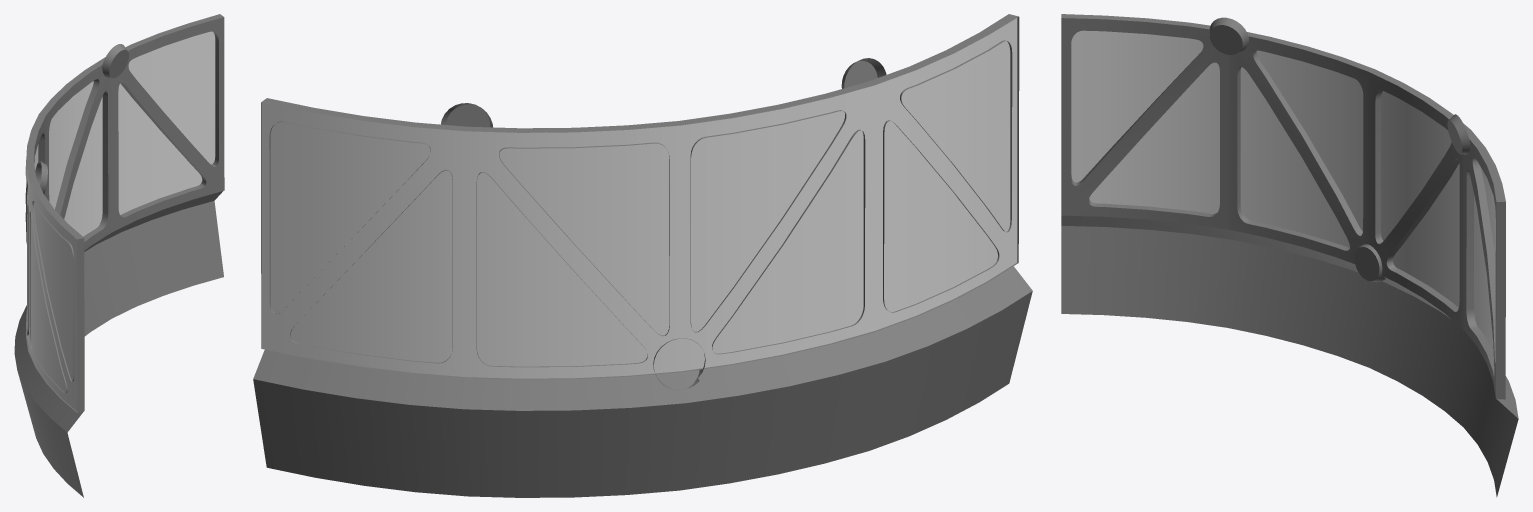
The model's file is q-scifi-mod-wallwindow-corner-round-inner.glb.
The picture shows the model from 3 angles, left to right: view 1: azimuth 30°, elevation 25°; view 2: azimuth 150°, elevation 25°; view 3: azimuth 270°, elevation 25°; orthographic projection. The views are drawn at different scales.
Parts seen in each view (by area): view 1: WallWindow_Corner_Round_Inner; view 2: WallWindow_Corner_Round_Inner; view 3: WallWindow_Corner_Round_Inner.
Boxes of the visible parts, bbox=[...] form: WallWindow_Corner_Round_Inner: bbox=[14, 14, 224, 497]; WallWindow_Corner_Round_Inner: bbox=[253, 14, 1032, 497]; WallWindow_Corner_Round_Inner: bbox=[1061, 14, 1518, 497].
Size of the model in its own units: 4.2 by 3.17 by 4.2.
Materials: 4 (3 with a texture image).
